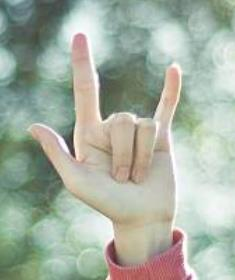back: (23, 26, 184, 224)
